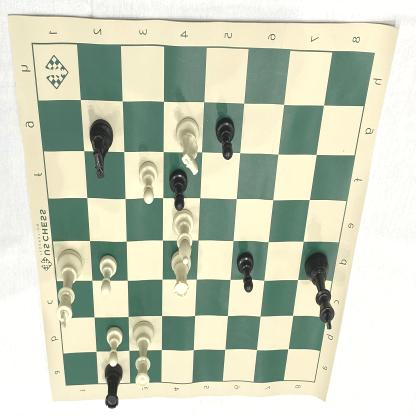black-king: (303, 249, 338, 333)
black-knight: (81, 116, 116, 183)
black-pawn: (214, 115, 238, 163), (167, 168, 190, 217), (234, 249, 256, 295)
black-rook: (101, 360, 126, 414)
white-bishop: (171, 206, 196, 267)
white-king: (51, 246, 85, 334)
white-knight: (174, 116, 205, 177)
white-pawn: (137, 156, 160, 209), (95, 252, 120, 300), (105, 324, 126, 368)
white-queen: (130, 318, 158, 392)
white-rook: (168, 247, 195, 304)
